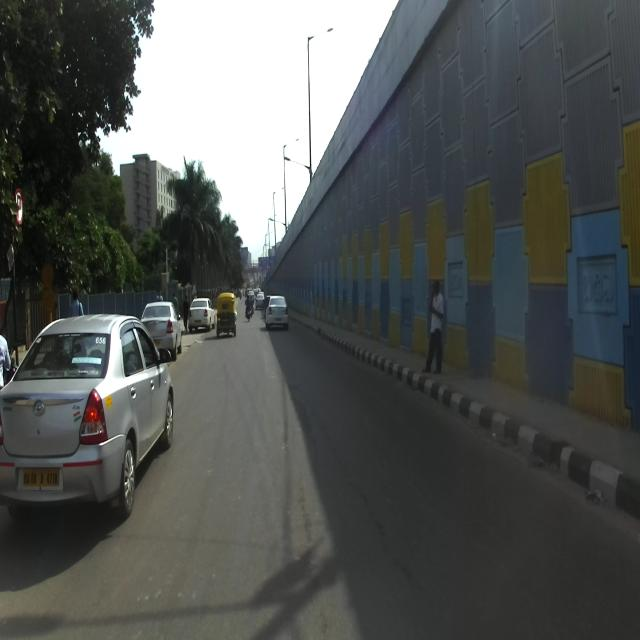car ahead at: (0, 309, 178, 511)
person ahead at: (421, 273, 454, 381)
